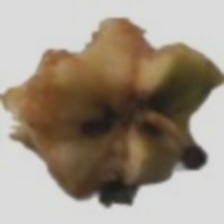apple: (0, 21, 198, 174)
